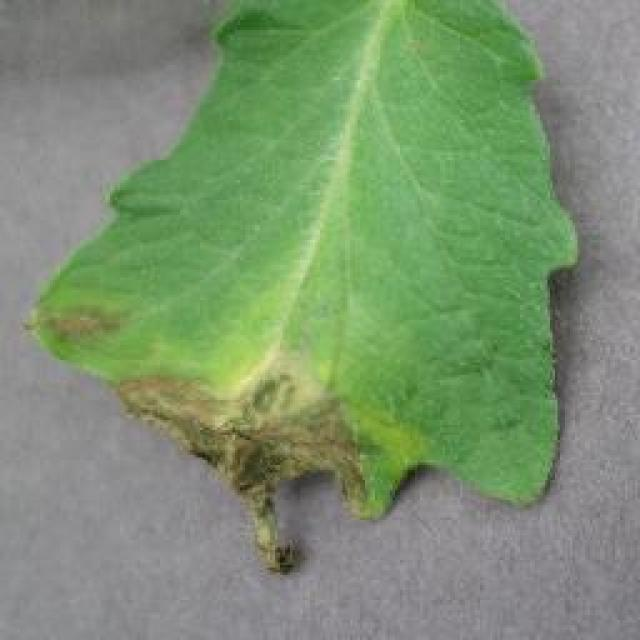Tomato_Late_Blight: (48, 309, 424, 520)
